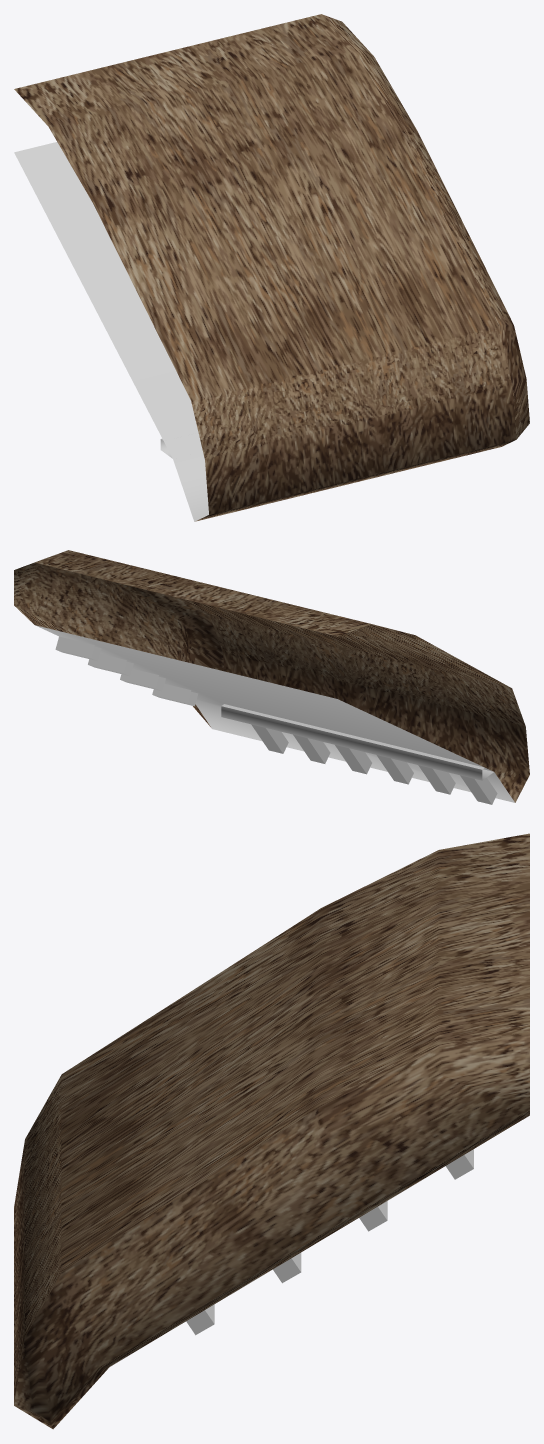
The model's file is Roof_End_Normal_03.FBX.
3 renders of one model, top to bottom at view 1: azimuth 30°, elevation 25°; view 2: azimuth 150°, elevation 25°; view 3: azimuth 270°, elevation 25°, orthographic. The views are drawn at different scales.
Parts seen in each view (by area): view 1: Roof_End_Normal_03; view 2: Roof_End_Normal_03; view 3: Roof_End_Normal_03.
Part boxes in pixels (x1,y1,x2,y2): Roof_End_Normal_03: (14, 14, 529, 521); Roof_End_Normal_03: (14, 550, 529, 804); Roof_End_Normal_03: (14, 833, 529, 1429).
Bounding box in the file's own units: 7.75 × 6.79 × 7.98.
